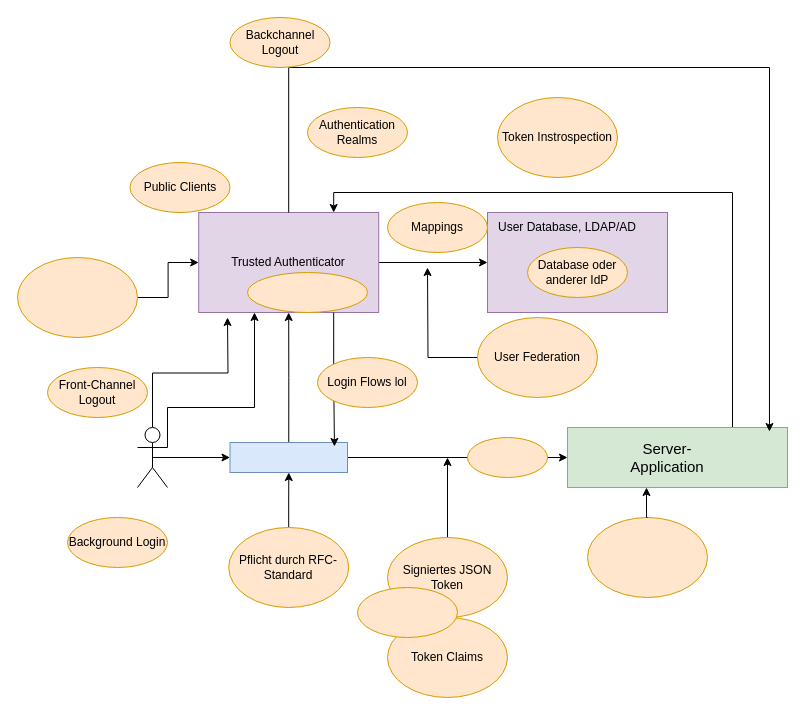
Image size: 805x715. Some labels were removed from this diagram. Each missing label, with the centre of its shape:
"Actor" goes at pixel 152 457.
"audience" goes at pixel 507 457.
"Client-Scopes" goes at pixel 307 292.
"Identity Provider" goes at pixel 77 297.
"Relying Party" goes at pixel 647 557.
"TLS / HTTPS" goes at pixel 288 457.
"Toke lifetimes" goes at pixel 407 612.
